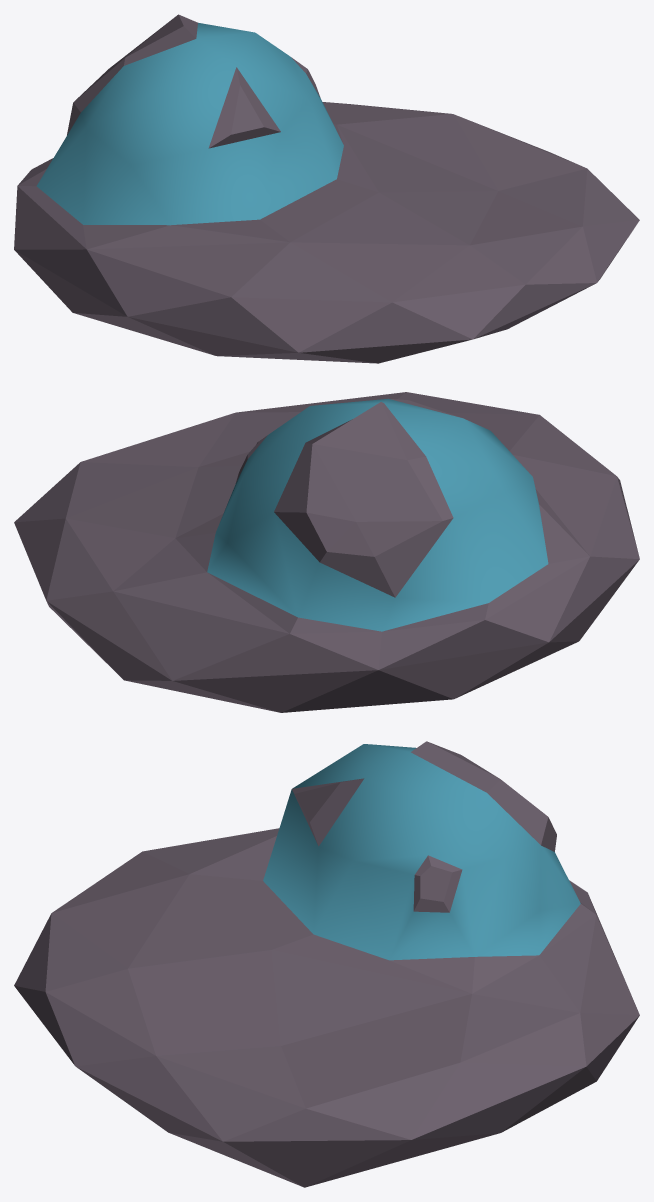
The model's file is Stone_Long_Magik.001.fbx.
3 views of the same model, one above another, from view 1: azimuth 30°, elevation 25°; view 2: azimuth 150°, elevation 25°; view 3: azimuth 270°, elevation 25° (orthographic). The views are drawn at different scales.
Parts seen in each view (by area): view 1: Stone_Long_Magik.001; view 2: Stone_Long_Magik.001; view 3: Stone_Long_Magik.001.
Boxes of the visible parts, left/top/right/bottom form: Stone_Long_Magik.001: left=14, top=14, right=639, bottom=363; Stone_Long_Magik.001: left=14, top=392, right=639, bottom=712; Stone_Long_Magik.001: left=14, top=741, right=639, bottom=1187.
Size of the model in its own units: 2.01 by 0.9541 by 2.
